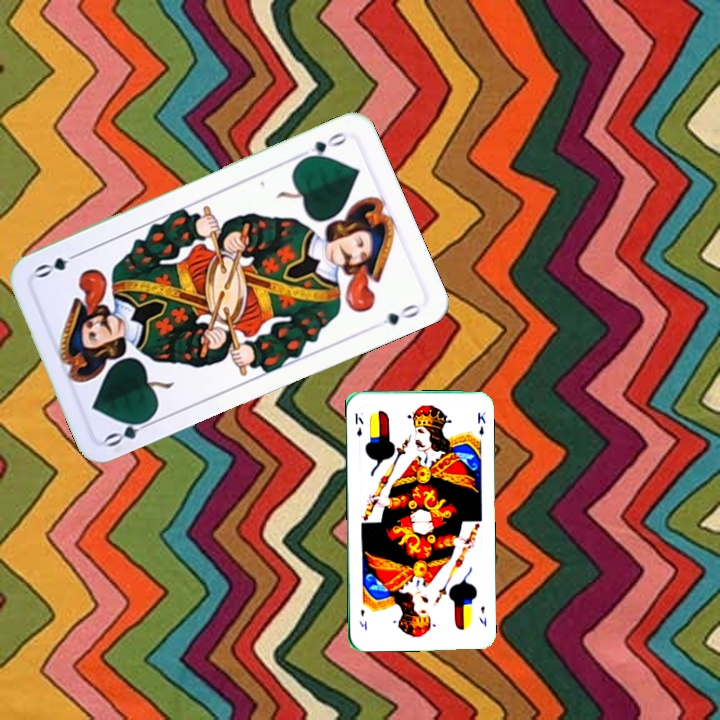EK: (351, 409, 366, 439), (475, 602, 489, 629)
GO: (101, 412, 158, 450), (294, 128, 351, 164)
